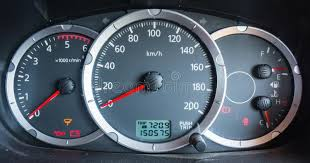Digital_Meter: (136, 119, 172, 139)
